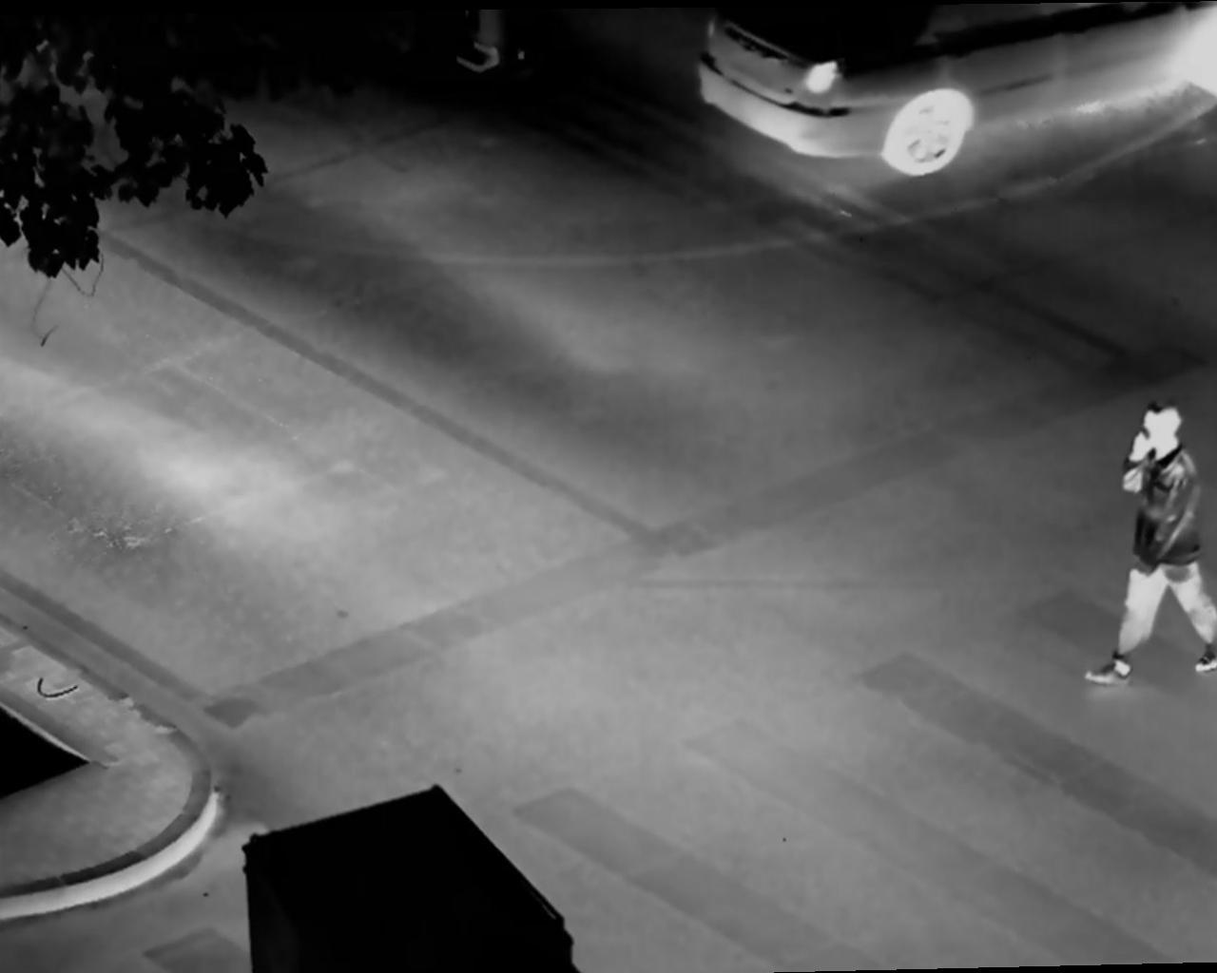person: (1079, 396, 1217, 701)
